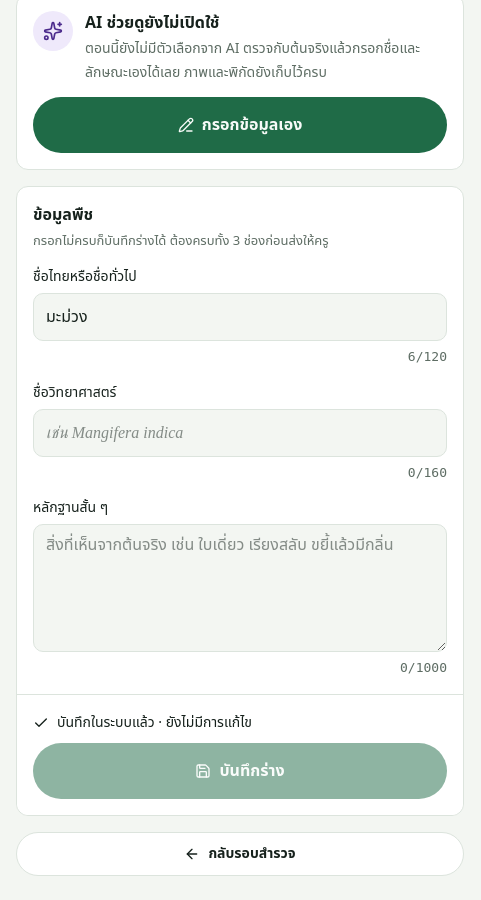
Test case: ObservationDraftScreen › stays editable while the session is paused
(page scrolled)
Type "ดอกสีขาว" into the text box labelled "หลักฐานสั้น ๆ" at (240, 588), box [33,524,447,652]
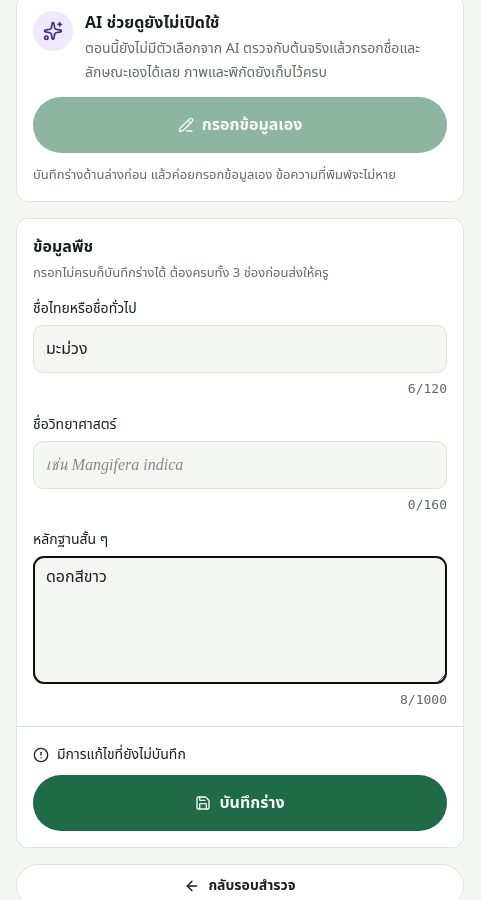
Result: the button "บันทึกร่าง" is enabled at [33,774,447,830]
